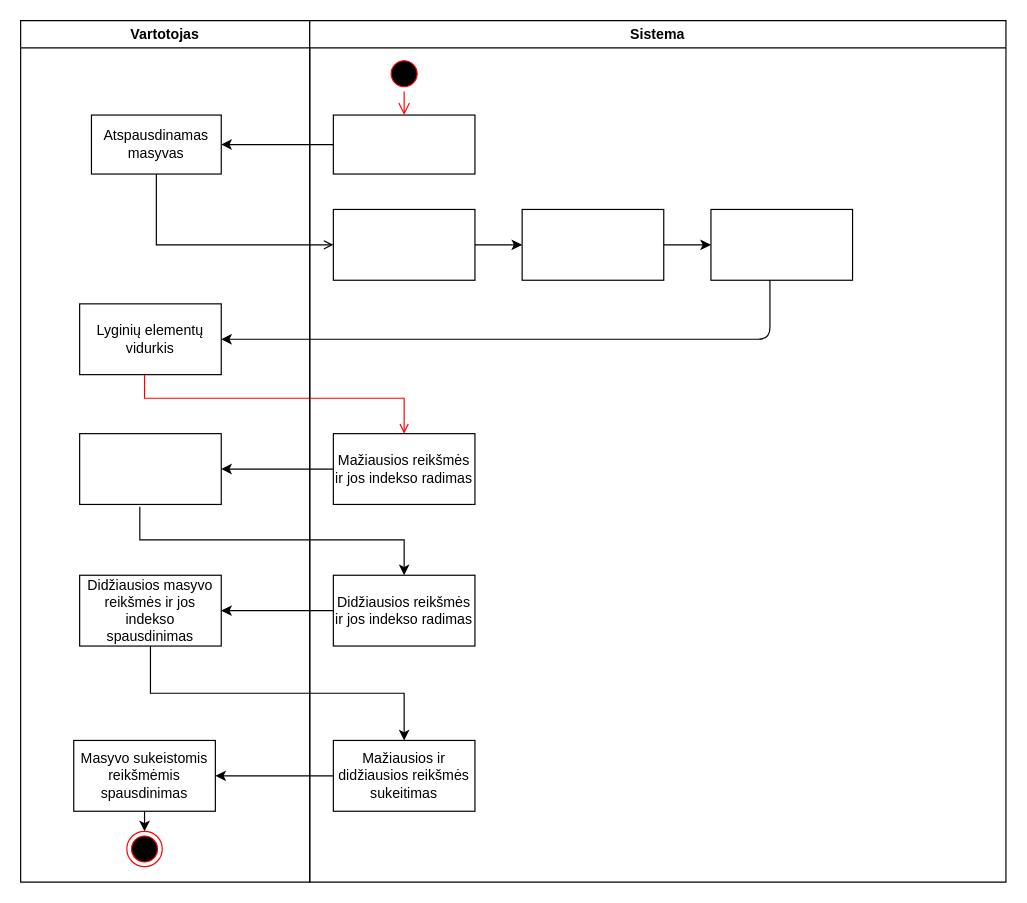
Some shapes in this 1027 by 903 pixel diagram are drawn without their labels. The centre of each missing label's shape, as x and y in pixels:
Lyginių elementų kiekis masyve: (592,244)
Lyginių elementų suma: (403,244)
Lyginių elementų vidurkio apskaičiavimas: (781,244)
Masyvo sukūrimas: (403,144)
Mažiausios masyvo reikšmės ir jos indekso spausdinimas: (149,468)
